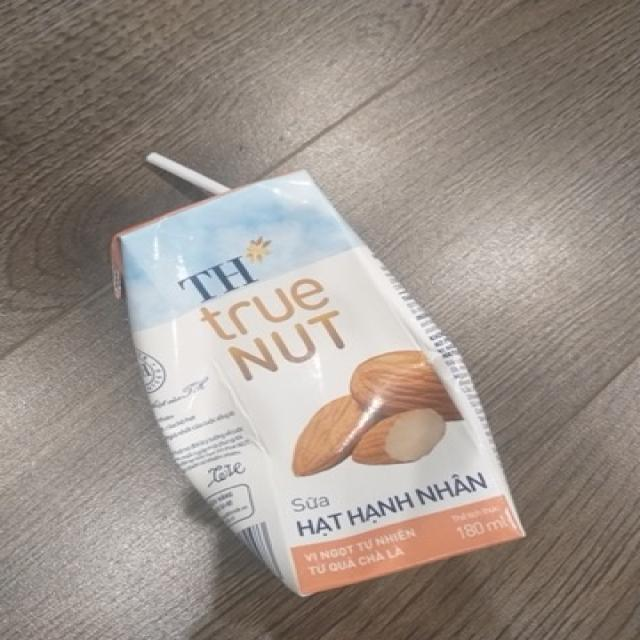PaperCardboard: (114, 150, 536, 600)
